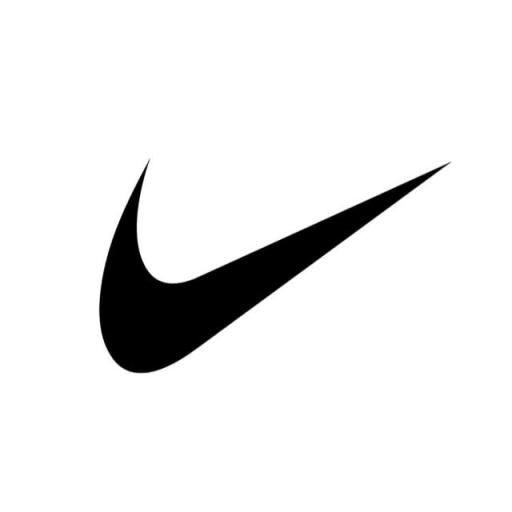Nike: (101, 161, 449, 375)
